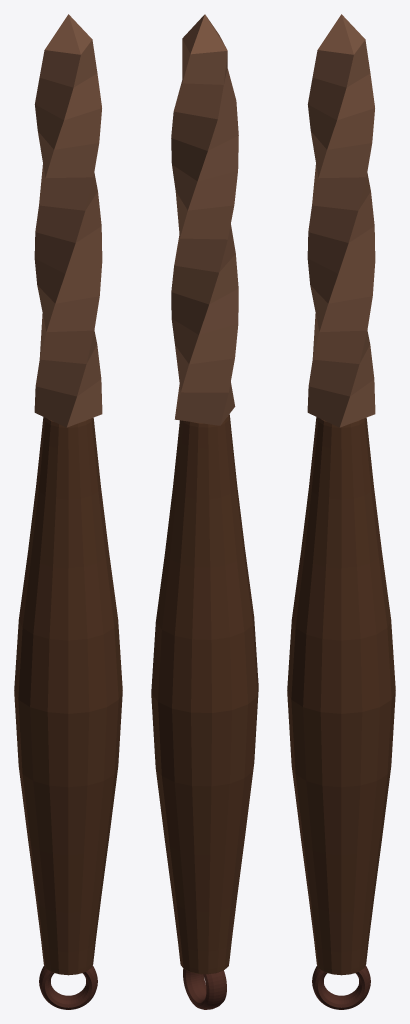
The model's file is Wand 151.glb.
The picture shows the model from 3 angles, left to right: view 1: azimuth 90°, elevation 25°; view 2: azimuth 210°, elevation 25°; view 3: azimuth 270°, elevation 25°; orthographic projection.
Visible parts, largest first — view 1: GeneratedWand; view 2: GeneratedWand; view 3: GeneratedWand.
Boxes of the visible parts, bbox=[...] form: GeneratedWand: bbox=[14, 14, 122, 1009]; GeneratedWand: bbox=[151, 14, 258, 1009]; GeneratedWand: bbox=[287, 14, 395, 1009].
Size of the model in its own units: 0.0499 by 0.5031 by 0.0499.
